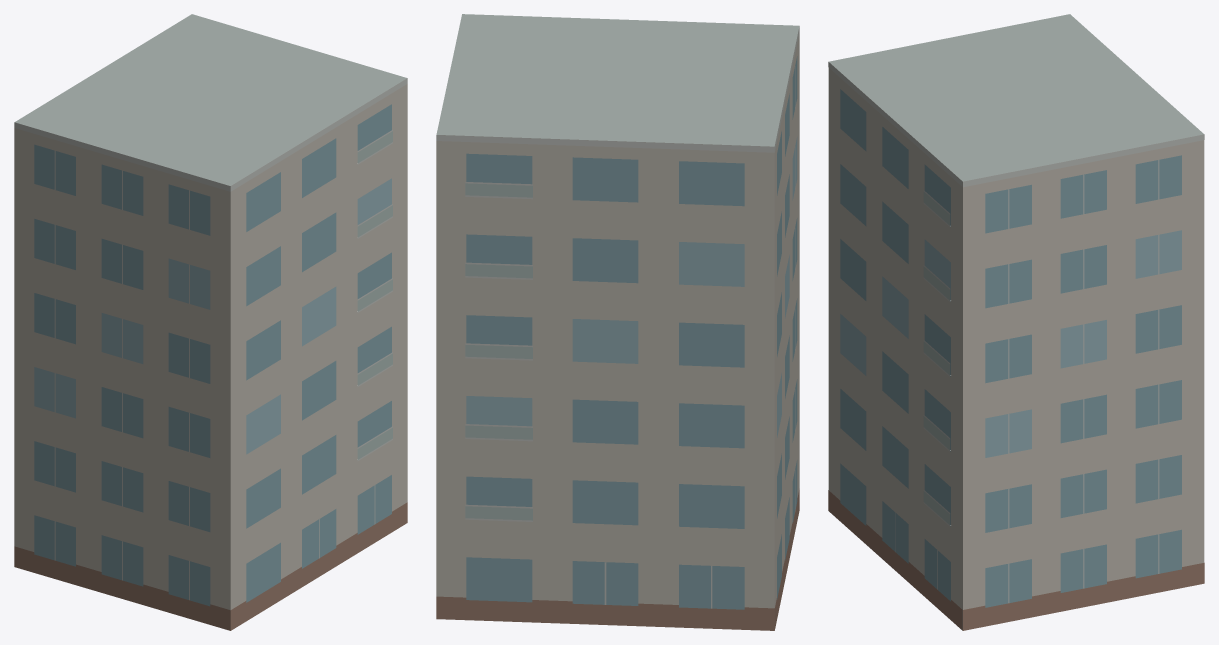
Rendered from survey-upis-32914306.glb.
The picture shows the model from 3 angles, left to right: view 1: azimuth 30°, elevation 25°; view 2: azimuth 150°, elevation 25°; view 3: azimuth 270°, elevation 25°; orthographic projection. The views are drawn at different scales.
Visible parts, largest first — view 1: survey-upis-32914306.tmp; view 2: survey-upis-32914306.tmp; view 3: survey-upis-32914306.tmp.
Boxes of the visible parts, left/top/right/bottom form: survey-upis-32914306.tmp: left=14, top=14, right=407, bottom=630; survey-upis-32914306.tmp: left=436, top=14, right=799, bottom=630; survey-upis-32914306.tmp: left=828, top=14, right=1204, bottom=630.
Size of the model in its own units: 15.37 by 19.2 by 14.57.
